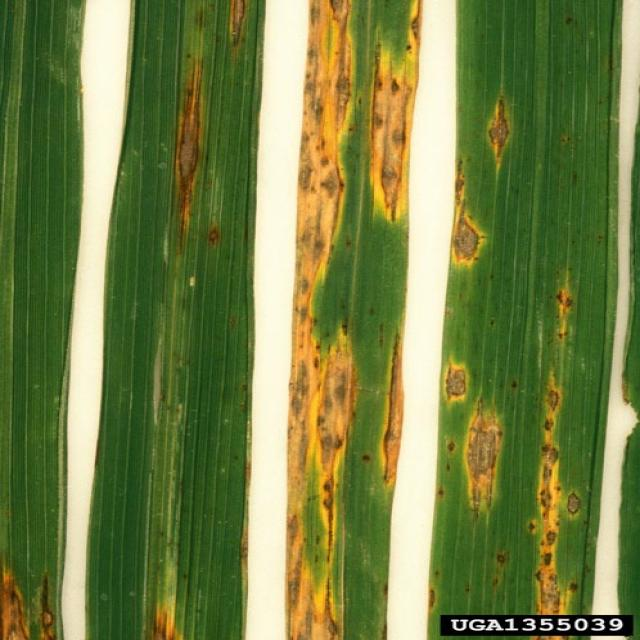Bacterial leaf blight: (298, 0, 358, 640), (146, 52, 240, 252), (529, 379, 593, 609), (113, 541, 220, 640), (372, 4, 412, 261), (458, 65, 551, 175), (452, 166, 518, 307), (361, 314, 401, 501), (452, 405, 514, 525), (0, 556, 76, 640), (536, 260, 599, 358), (200, 0, 269, 47), (439, 353, 476, 406)
